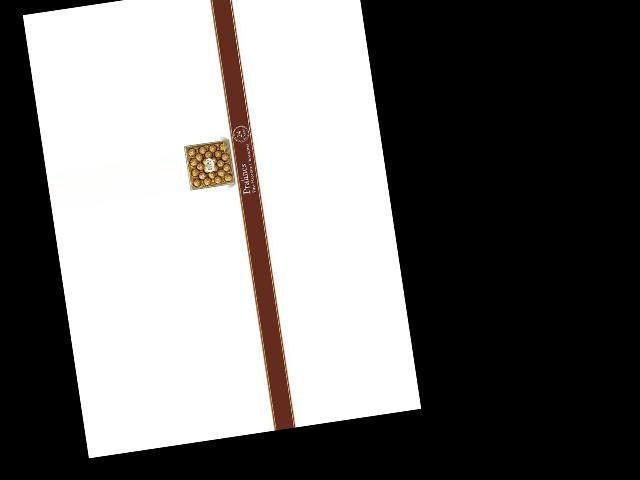chocolate: (180, 136, 237, 192)
